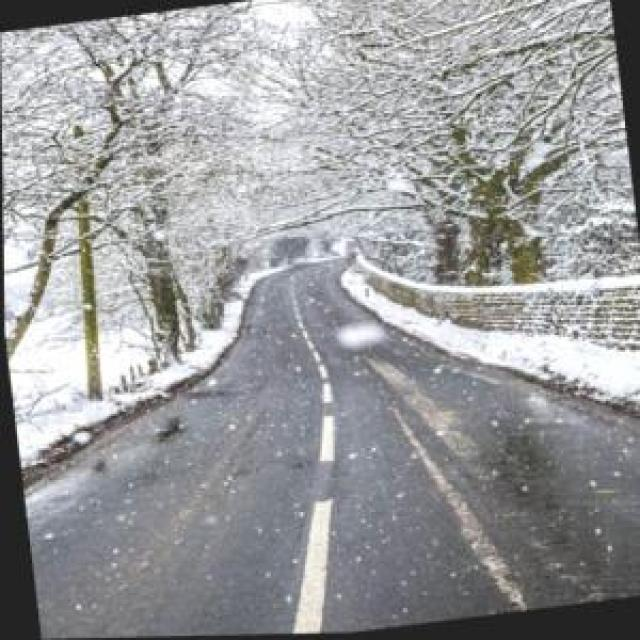clear-road: (35, 281, 640, 639)
